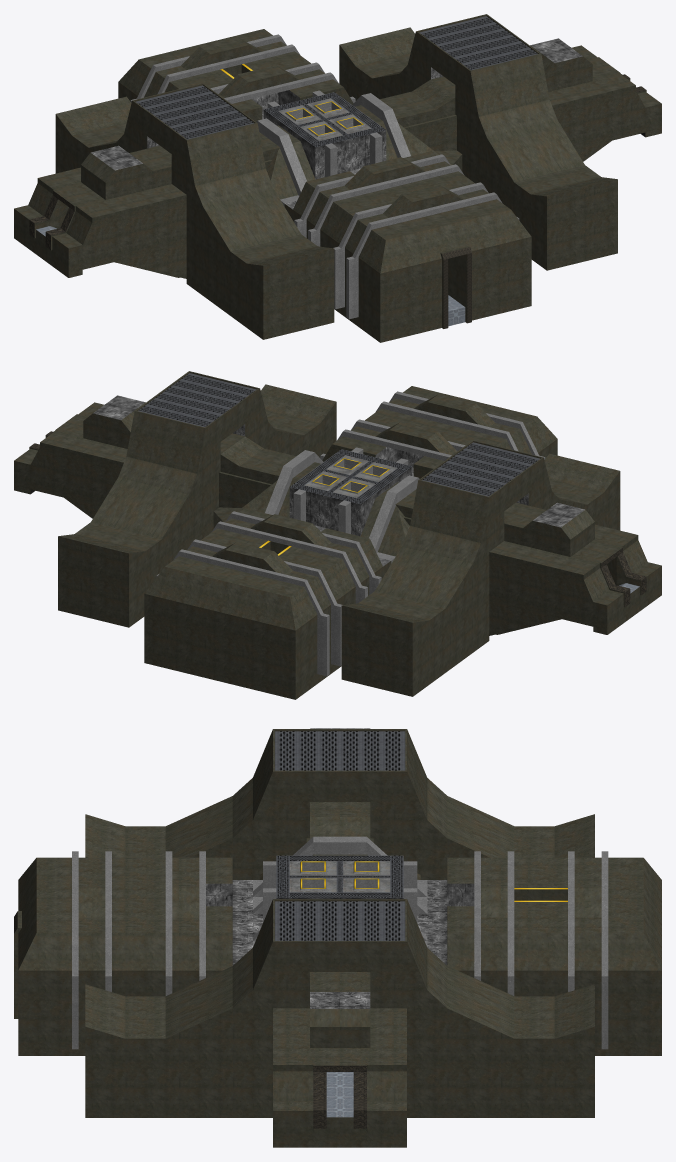
File: LunarFlag2.fbx
3 renders of one model, top to bottom at view 1: azimuth 30°, elevation 25°; view 2: azimuth 150°, elevation 25°; view 3: azimuth 270°, elevation 25°, orthographic. The views are drawn at different scales.
Visible parts, largest first — view 1: Object; view 2: Object; view 3: Object.
Part boxes in pixels (x1,y1,x2,y2): Object: [14, 14, 661, 342]; Object: [14, 371, 661, 699]; Object: [14, 728, 661, 1147].
Size of the model in its own units: 25200 by 7550 by 19325.
